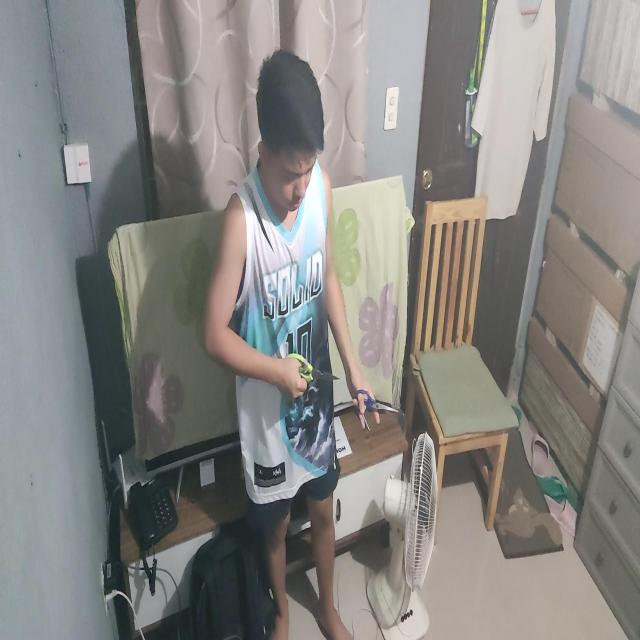scissor: (284, 352, 340, 389), (354, 389, 399, 415)
